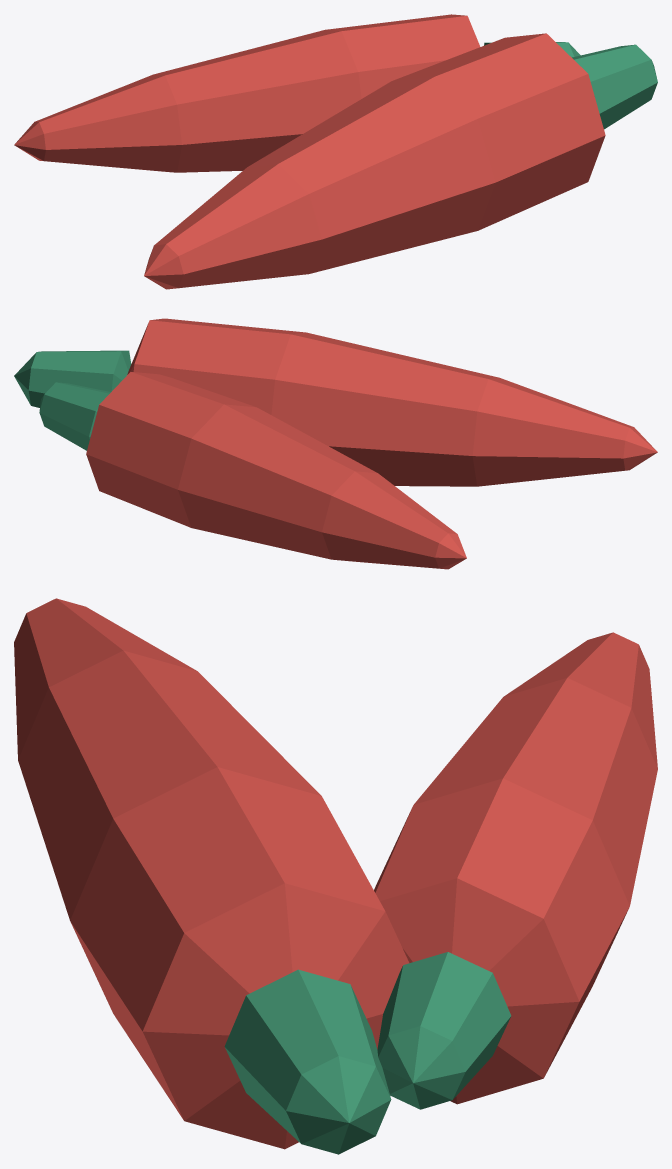
Rendered from chilli-raw.glb.
3 views of the same model, one above another, from view 1: azimuth 30°, elevation 25°; view 2: azimuth 150°, elevation 25°; view 3: azimuth 270°, elevation 25° (orthographic). The views are drawn at different scales.
Parts seen in each view (by area): view 1: chilli-raw; view 2: chilli-raw; view 3: chilli-raw.
Part boxes in pixels (x1,y1,x2,y2): chilli-raw: (14, 14, 657, 289); chilli-raw: (14, 318, 657, 569); chilli-raw: (14, 598, 657, 1154).
Size of the model in its own units: 0.2209 by 0.056 by 0.1184.
1 material, 1 textured.
